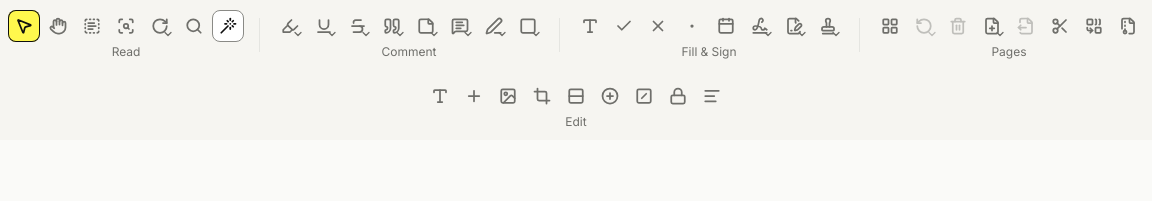
Test case: Lesen › Drehen is a split item: its chevron opens right, left and reset
Click the 1st button named "Options for Rotate" at (168, 34), box x1=162 y1=28 x2=174 y2=40
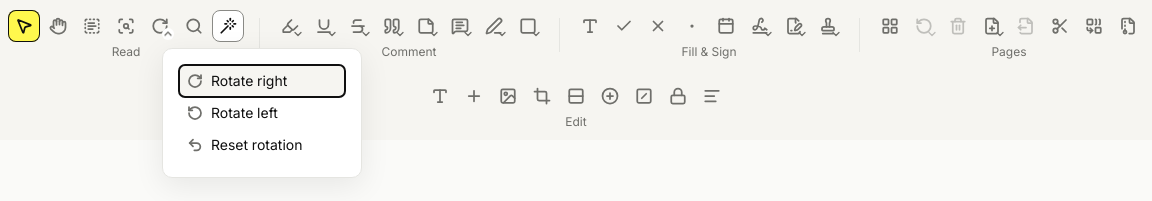
Expected: the menu items read "Rotate right", "Rotate left", "Reset rotation", in this order, x1=179 y1=65 x2=345 y2=97; x1=179 y1=97 x2=345 y2=129; x1=179 y1=129 x2=345 y2=161
